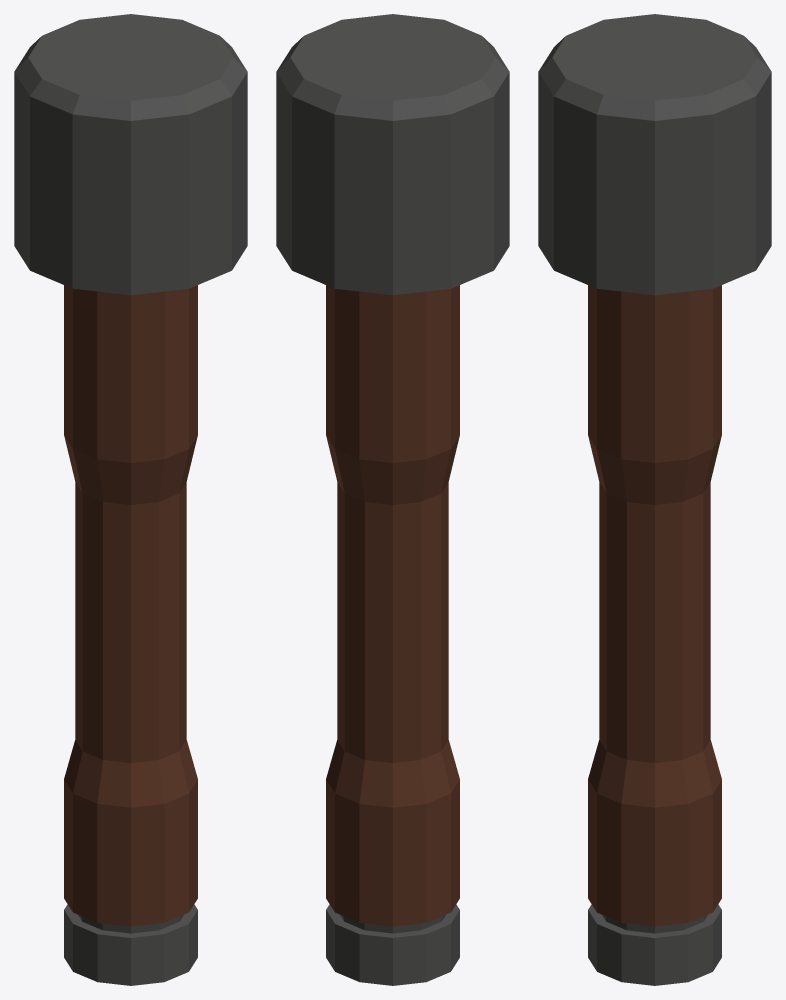
Rendered from Stielhandgranate_seperated.fbx.
3 views of the same model, side by side, from view 1: azimuth 30°, elevation 25°; view 2: azimuth 150°, elevation 25°; view 3: azimuth 270°, elevation 25° (orthographic).
Parts seen in each view (by area): view 1: Teil1, Teil3, Teil2; view 2: Teil1, Teil3, Teil2; view 3: Teil1, Teil3, Teil2.
Part boxes in pixels (left/top/right/bottom): Teil1: left=64, top=285, right=197, bottom=926; Teil3: left=14, top=14, right=247, bottom=295; Teil2: left=64, top=904, right=197, bottom=985; Teil1: left=326, top=285, right=459, bottom=926; Teil3: left=276, top=14, right=509, bottom=295; Teil2: left=326, top=904, right=459, bottom=985; Teil1: left=588, top=285, right=721, bottom=926; Teil3: left=538, top=14, right=771, bottom=295; Teil2: left=588, top=904, right=721, bottom=985.
Size of the model in its own units: 36.12 by 154 by 36.12.
